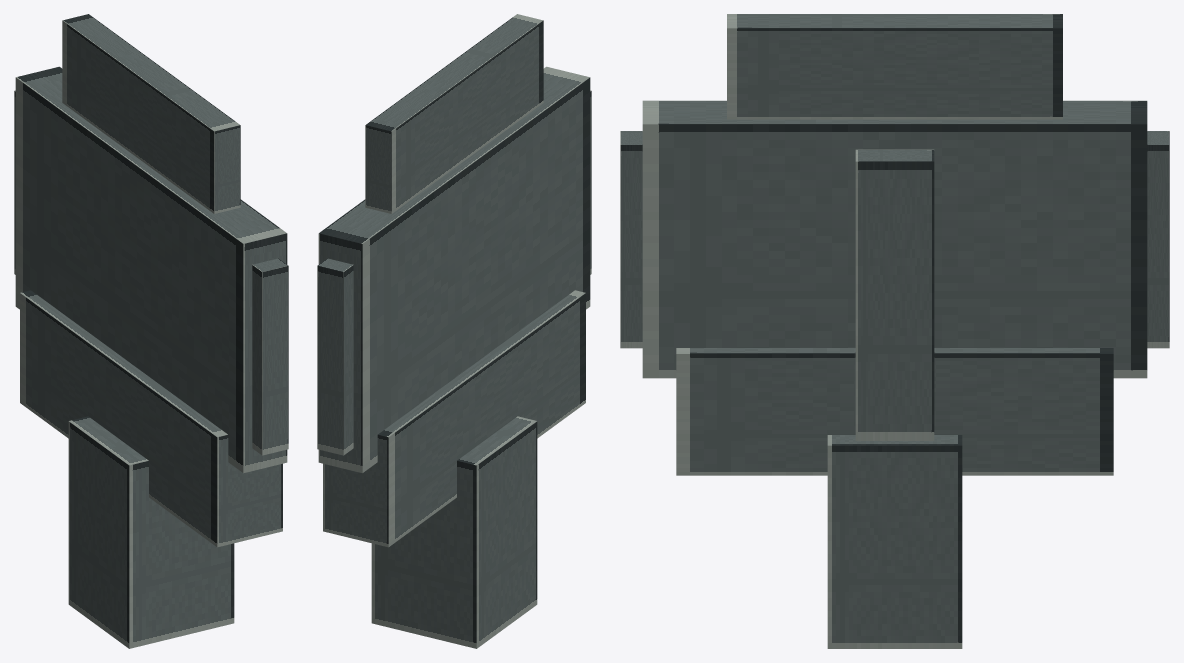
File: workpiece_forged_shovel_shaped.obj
3 renders of one model, left to right at view 1: azimuth 30°, elevation 25°; view 2: azimuth 150°, elevation 25°; view 3: azimuth 270°, elevation 25°, orthographic. The views are drawn at different scales.
Visible parts, largest first — view 1: geometry; view 2: geometry; view 3: geometry.
Boxes of the visible parts, x1=… form: geometry: x1=14, y1=14, x2=288, y2=648; geometry: x1=317, y1=14, x2=591, y2=648; geometry: x1=620, y1=14, x2=1169, y2=648.
Bounding box in the file's own units: 0.15 × 0.7375 × 0.6125.
